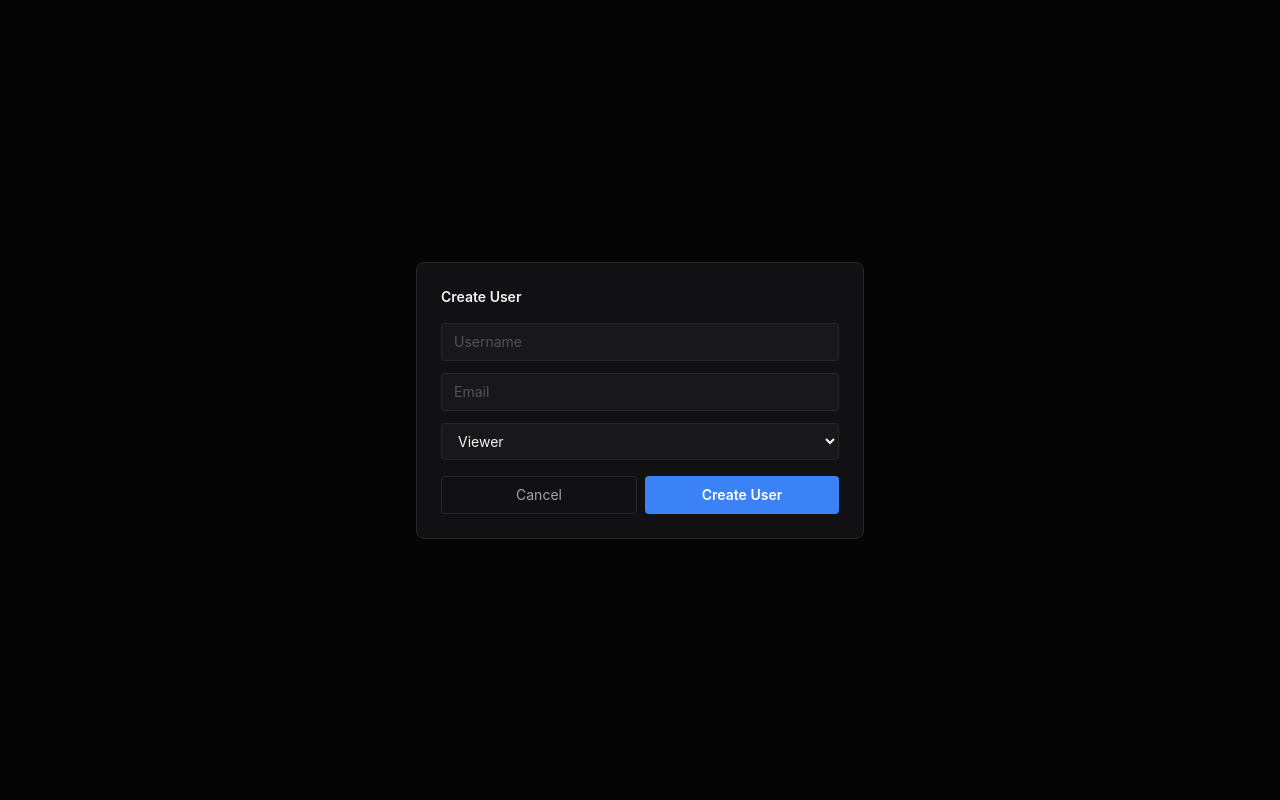
Test: CreateUserModal › shows error message on failure
Type "newuser" into the field with placeholder "Username". click: x=640, y=342
box: [441, 322, 839, 360]
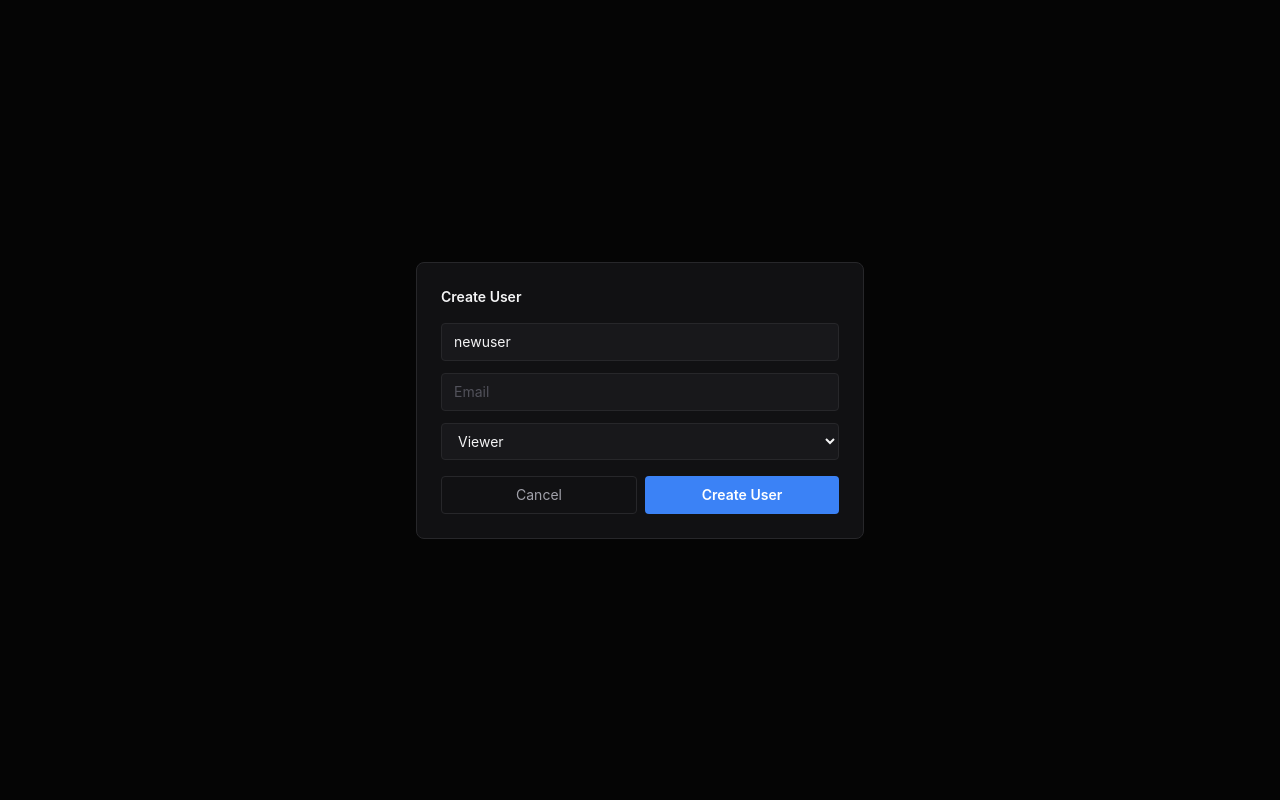
Type "new@b.com" into the field with placeholder "Email". click: x=640, y=392
box: [441, 372, 839, 410]
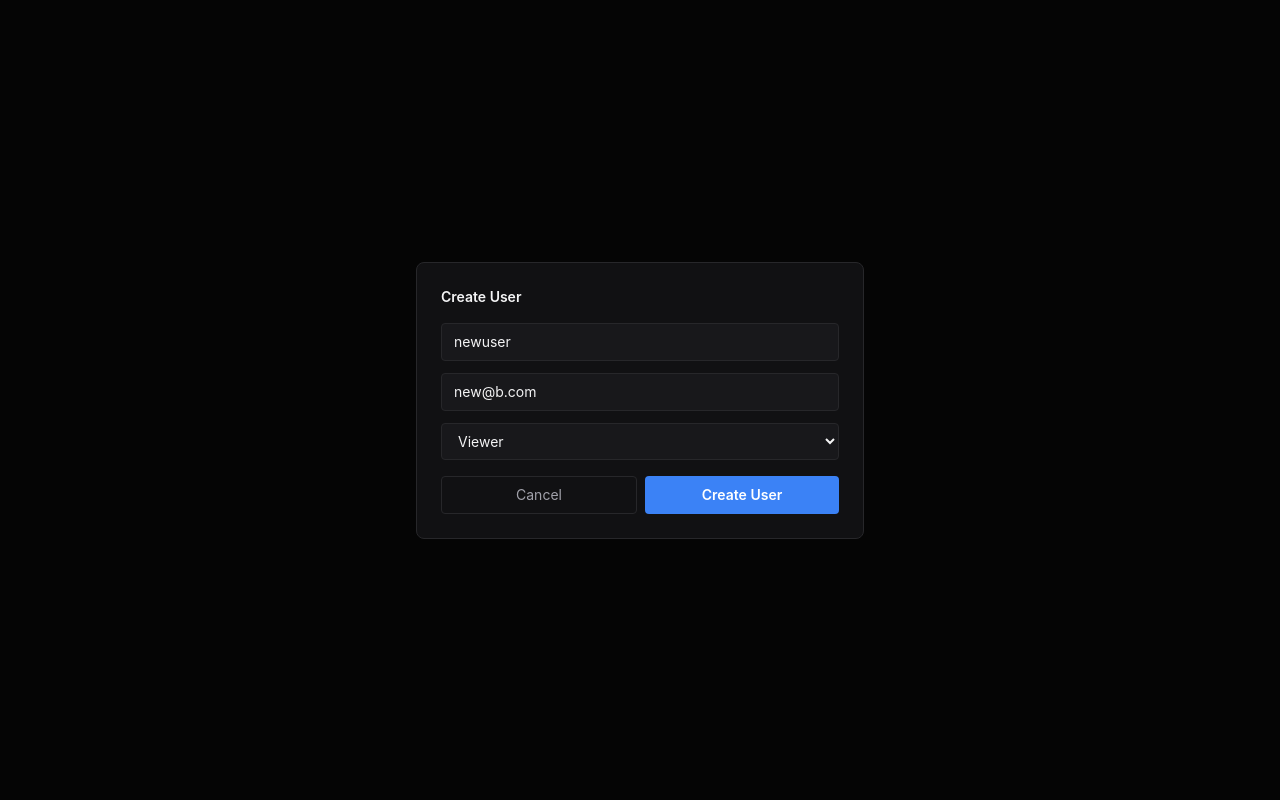
Submit the form "Create User Cancel Create User", box [441, 286, 839, 514]
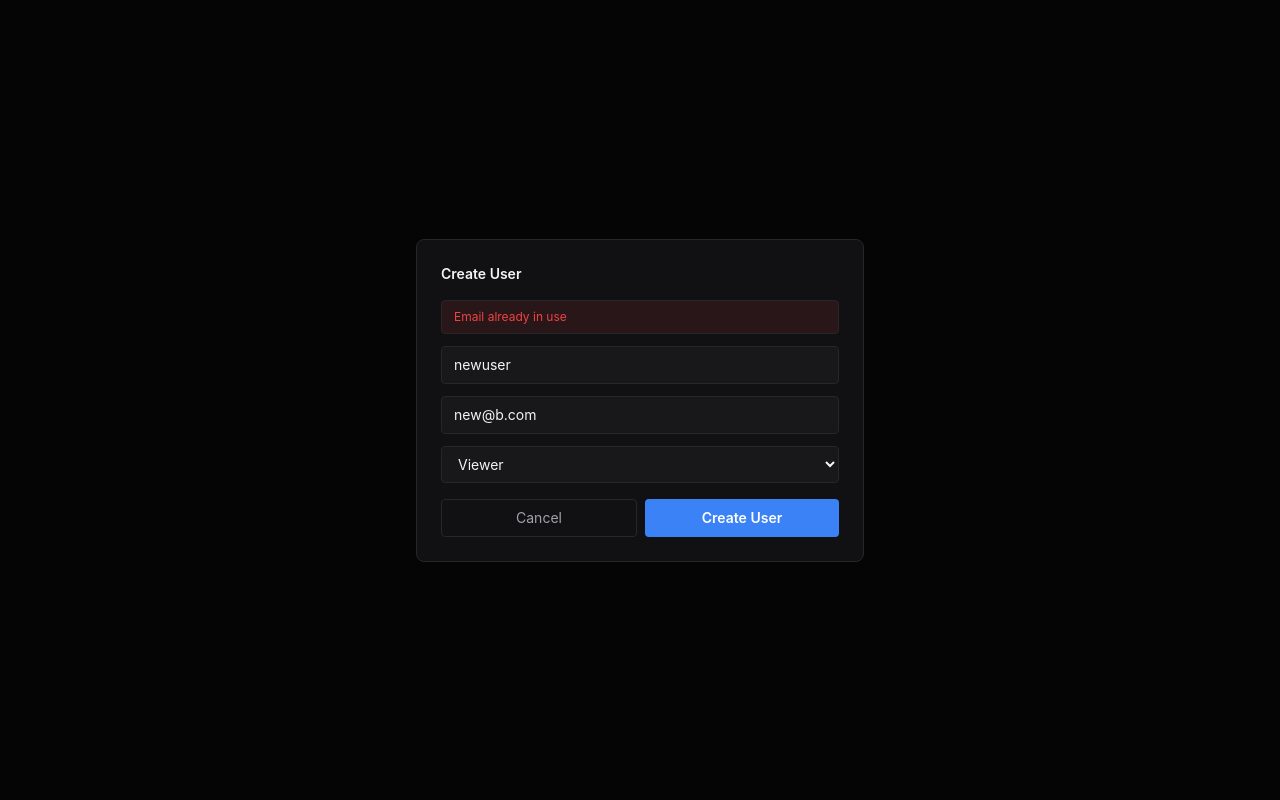
Check: the text "Email already in use" is shown, box [441, 300, 839, 334]
